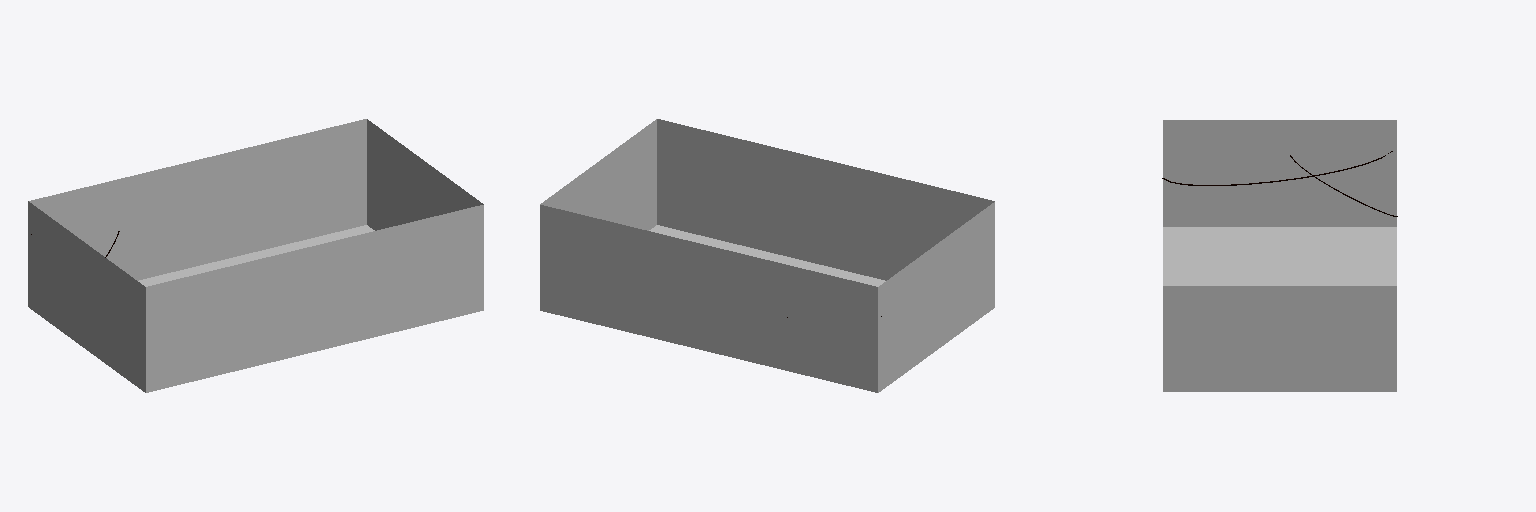
Rendered from Kalamkari_Environment.obj.
3 renders of one model, left to right at view 1: azimuth 30°, elevation 25°; view 2: azimuth 150°, elevation 25°; view 3: azimuth 270°, elevation 25°, orthographic.
Visible parts, largest first — view 1: Walls_Plane.001, Floor_Plane; view 2: Walls_Plane.001, Floor_Plane; view 3: Walls_Plane.001, Floor_Plane.
Part boxes in pixels (x1,y1,x2,y2): Walls_Plane.001: (28, 119, 483, 392); Floor_Plane: (138, 225, 374, 286); Walls_Plane.001: (540, 119, 994, 392); Floor_Plane: (649, 225, 885, 286); Walls_Plane.001: (1163, 120, 1396, 391); Floor_Plane: (1163, 227, 1396, 285).
Bounding box in the file's own units: 10.02 × 3 × 6.02.